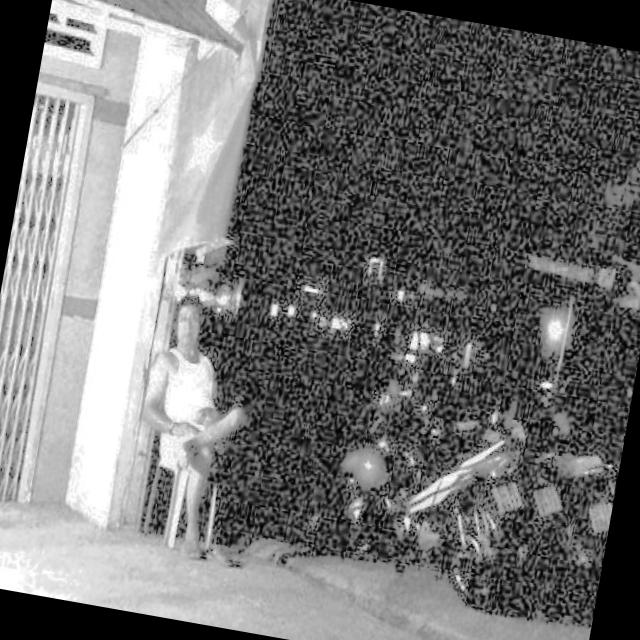Motorcycle: (316, 338, 633, 639)
Person: (124, 272, 281, 550)
